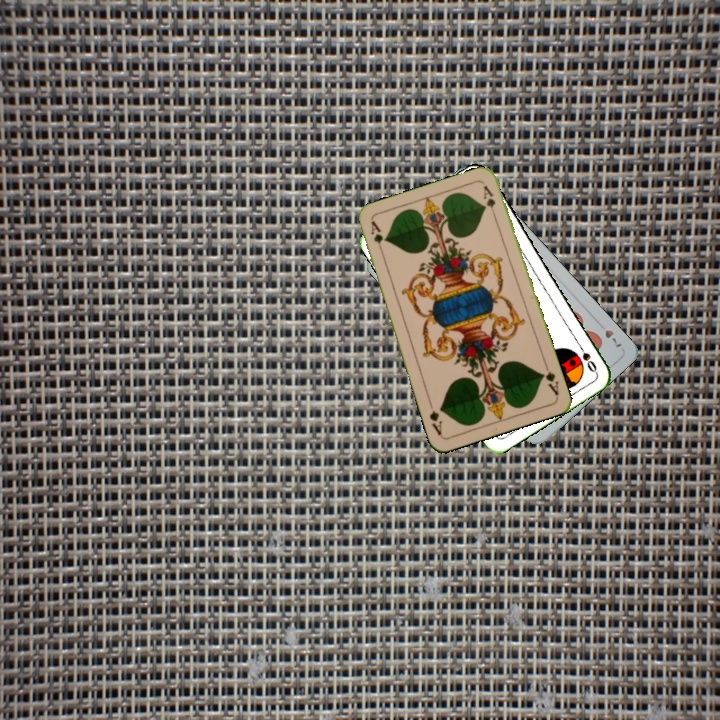GA: (537, 359, 561, 398), (367, 217, 387, 257)
H7: (601, 326, 625, 350)
SO: (573, 338, 599, 375)
